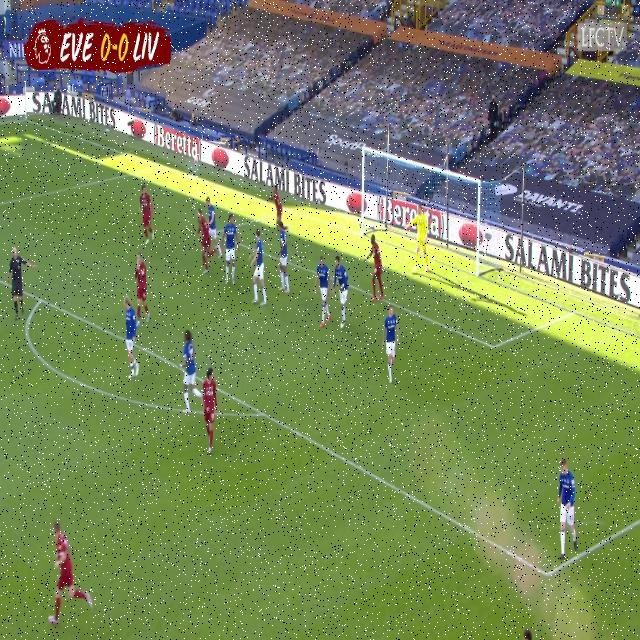GoalKeeper: (411, 203, 430, 267)
TEAM 1: (48, 521, 95, 629), (200, 368, 218, 455), (198, 210, 218, 276), (367, 235, 385, 302), (266, 177, 286, 236), (135, 253, 150, 322), (140, 186, 155, 247)
TEAM 2: (558, 457, 580, 557), (122, 296, 143, 380), (182, 332, 200, 416), (221, 214, 240, 288), (383, 304, 400, 386), (315, 254, 333, 331), (249, 232, 266, 307), (333, 256, 350, 330), (276, 217, 290, 294), (207, 196, 220, 263)
